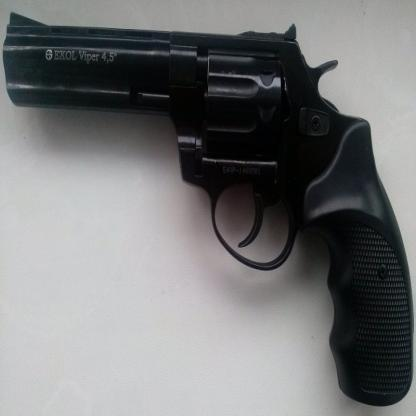gun: (0, 4, 416, 413)
